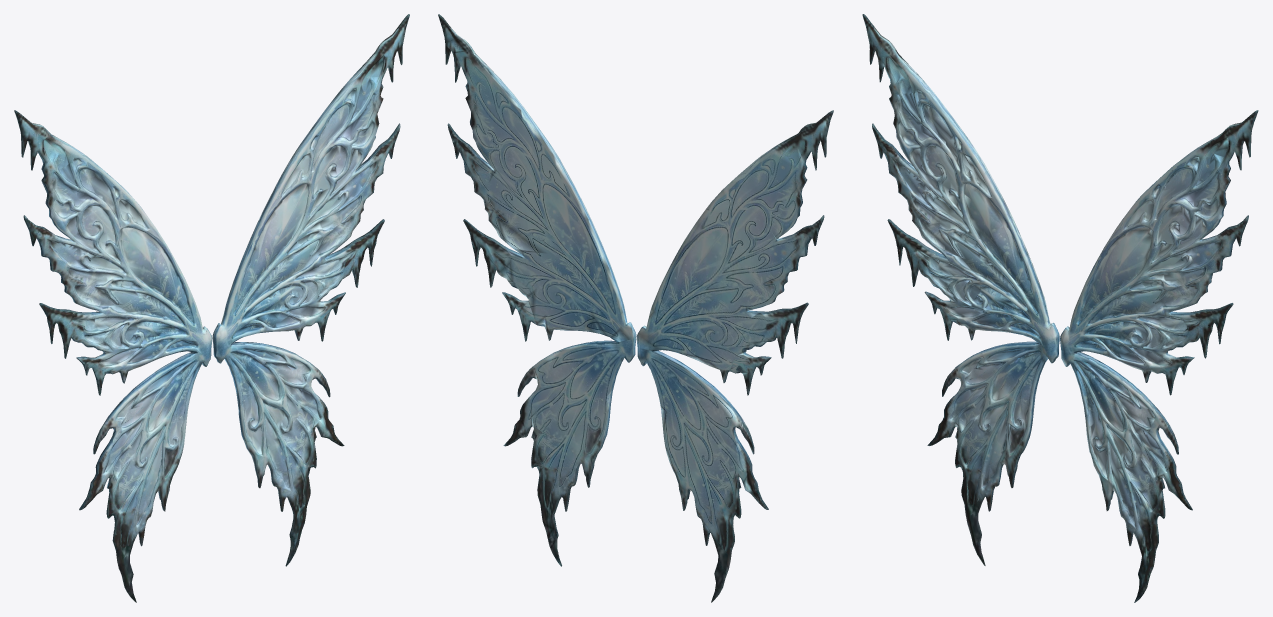
File: fairyWings.glb
The picture shows the model from 3 angles, left to right: view 1: azimuth 30°, elevation 25°; view 2: azimuth 150°, elevation 25°; view 3: azimuth 330°, elevation 25°; orthographic projection.
Bounding box in the file's own units: 1.51 × 1.9 × 0.0358.
Materials: 1 (1 with a texture image).
